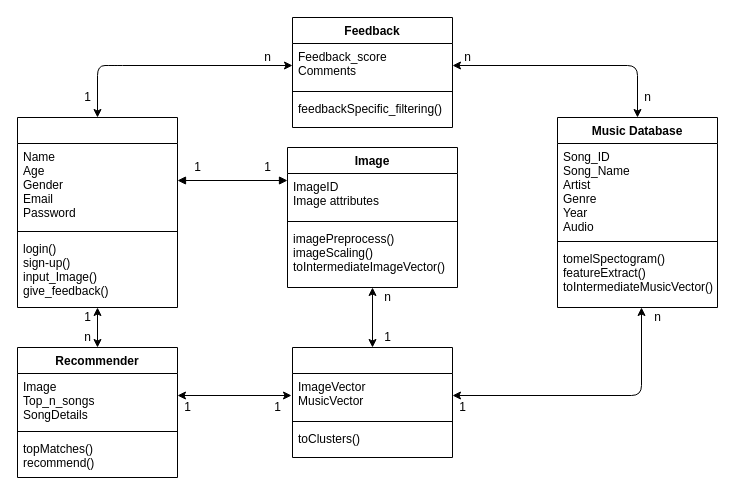
The diagram is 735 pixels wide and 498 high, and some of its shapes have lost their labels. The box of each missing label's shape, as (x1, y1, x2, y2) in pixels:
Co-relation Analysis: (292, 346, 452, 458)
User: (16, 116, 178, 308)
